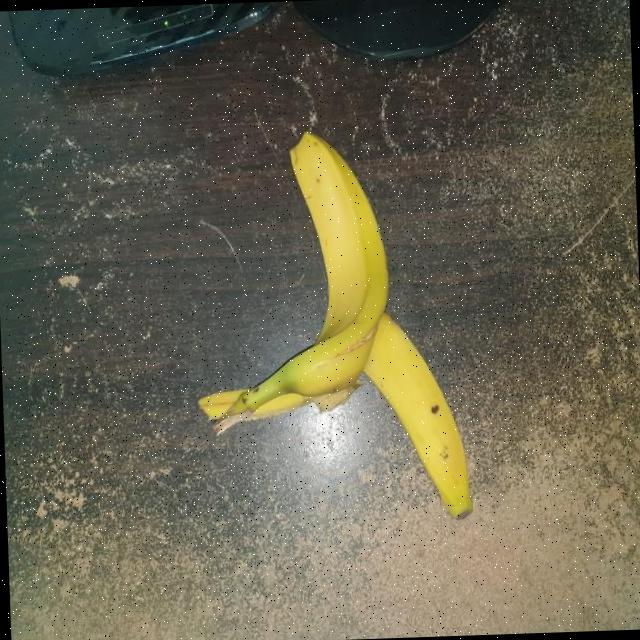banana-peel: (187, 123, 473, 528)
